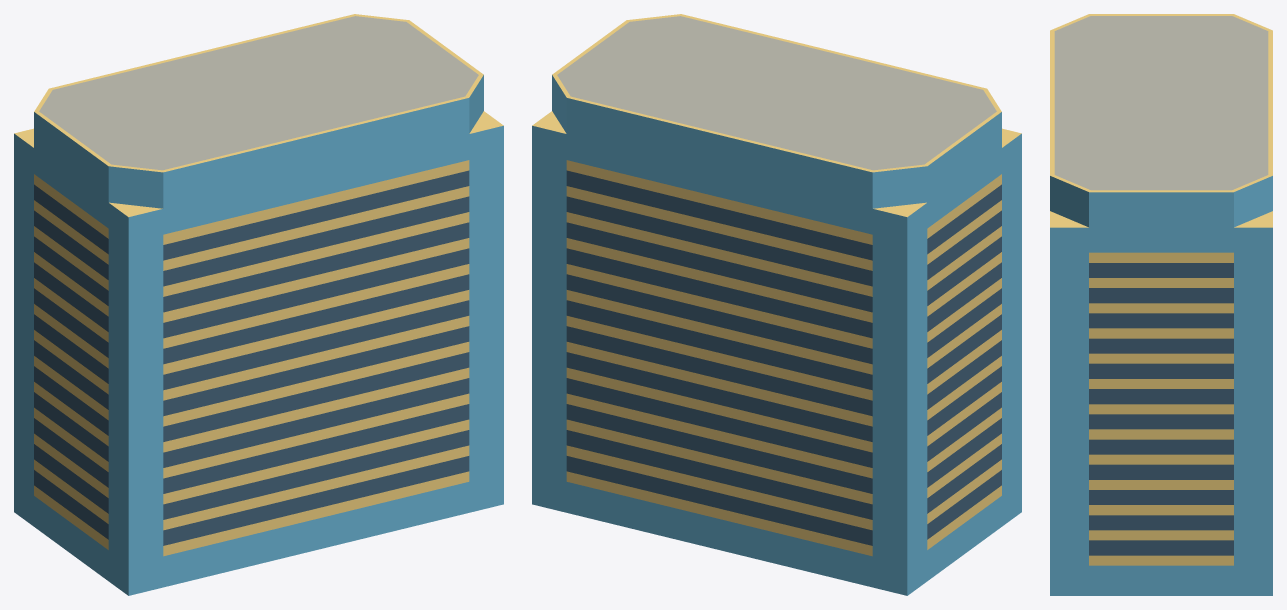
File: skyscraper_medium.fbx
3 views of the same model, side by side, from view 1: azimuth 30°, elevation 25°; view 2: azimuth 150°, elevation 25°; view 3: azimuth 270°, elevation 25° (orthographic). The views are drawn at different scales.
Visible parts, largest first — view 1: skyscraper_medium; view 2: skyscraper_medium; view 3: skyscraper_medium.
Boxes of the visible parts, left/top/right/bottom form: skyscraper_medium: left=14, top=14, right=503, bottom=595; skyscraper_medium: left=532, top=14, right=1021, bottom=595; skyscraper_medium: left=1050, top=14, right=1272, bottom=595.
Bounding box in the file's own units: 424 × 448 × 224.
